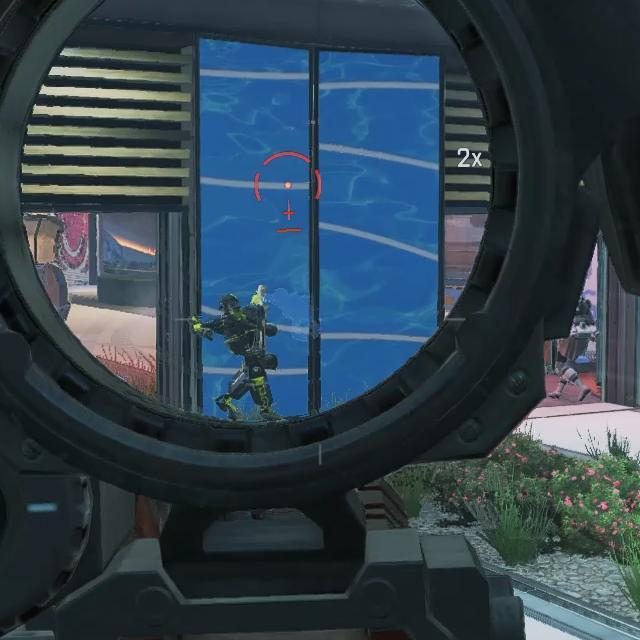avatar: (188, 291, 280, 422)
